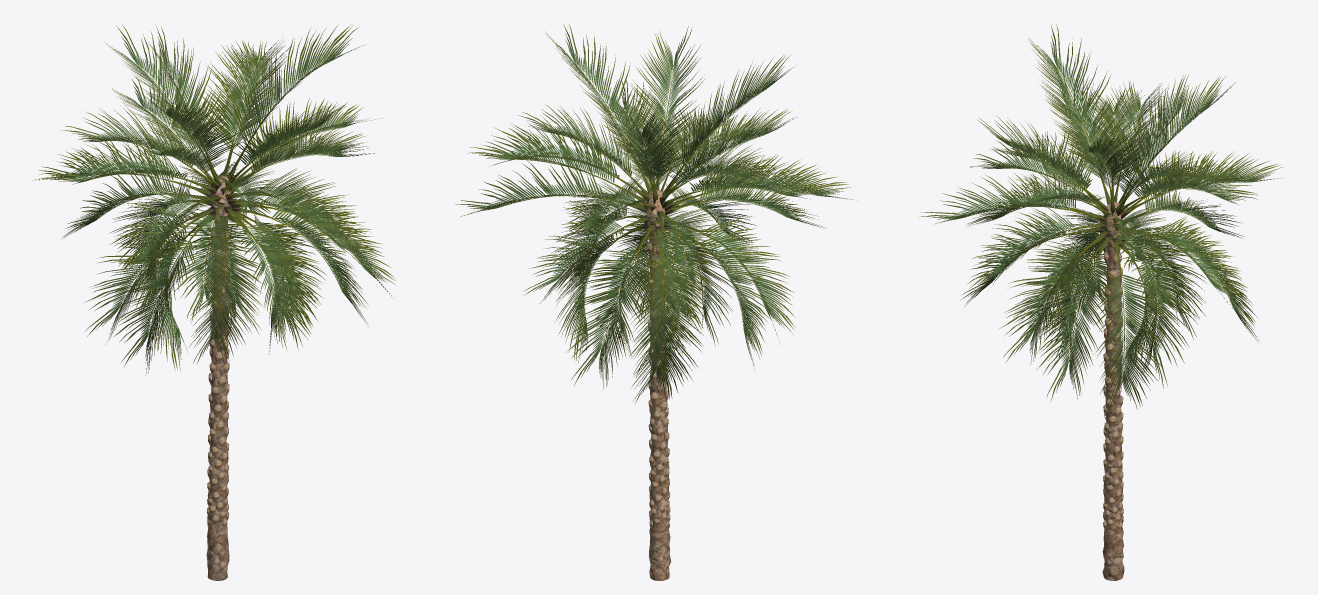
File: palmier-dattier-1.glb
3 renders of one model, left to right at view 1: azimuth 30°, elevation 25°; view 2: azimuth 150°, elevation 25°; view 3: azimuth 270°, elevation 25°, orthographic. The views are drawn at different scales.
Visible parts, largest first — view 1: Tree_1, Tree_0, Tree_3, Tree_2; view 2: Tree_1, Tree_0, Tree_3, Tree_2; view 3: Tree_1, Tree_0, Tree_2, Tree_3.
Part boxes in pixels (x1=…): Tree_1: x1=32, y1=24, x2=395, y2=375; Tree_0: x1=206, y1=175, x2=230, y2=580; Tree_3: x1=155, y1=125, x2=293, y2=264; Tree_2: x1=207, y1=228, x2=230, y2=528; Tree_1: x1=455, y1=24, x2=853, y2=403; Tree_0: x1=647, y1=190, x2=671, y2=580; Tree_3: x1=583, y1=140, x2=725, y2=289; Tree_2: x1=647, y1=241, x2=670, y2=530; Tree_1: x1=918, y1=24, x2=1285, y2=415; Tree_0: x1=1102, y1=202, x2=1124, y2=580; Tree_2: x1=1103, y1=251, x2=1123, y2=531; Tree_3: x1=1049, y1=156, x2=1167, y2=292.
Bounding box in the file's own units: 5.46 × 7.34 × 5.21.
4 materials, 4 textured.
